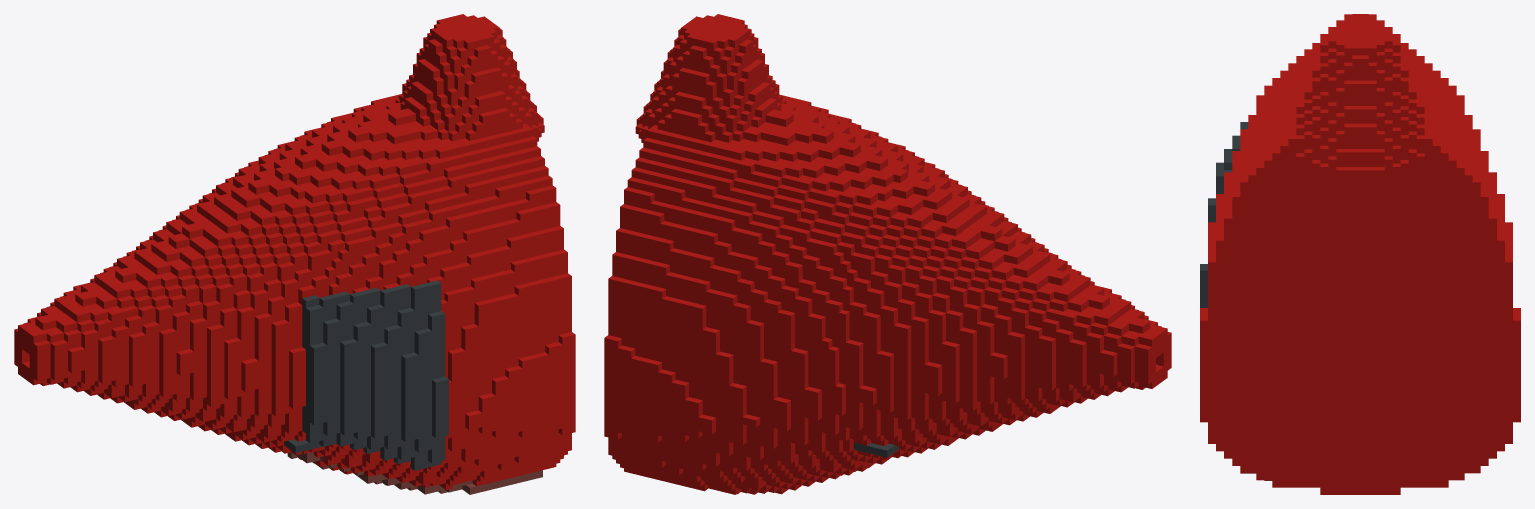
The model's file is crashed_light_helicopter_rear_fairing.glb.
The picture shows the model from 3 angles, left to right: view 1: azimuth 30°, elevation 25°; view 2: azimuth 150°, elevation 25°; view 3: azimuth 270°, elevation 25°; orthographic projection. The views are drawn at different scales.
Visible parts, largest first — view 1: body:compound; view 2: body:compound; view 3: body:compound.
Boxes of the visible parts, x1,y1,x2,y2 form: body:compound: [14, 14, 575, 494]; body:compound: [604, 14, 1171, 494]; body:compound: [1200, 14, 1520, 494].
Bounding box in the file's own units: 2.38 × 1.91 × 1.25.
